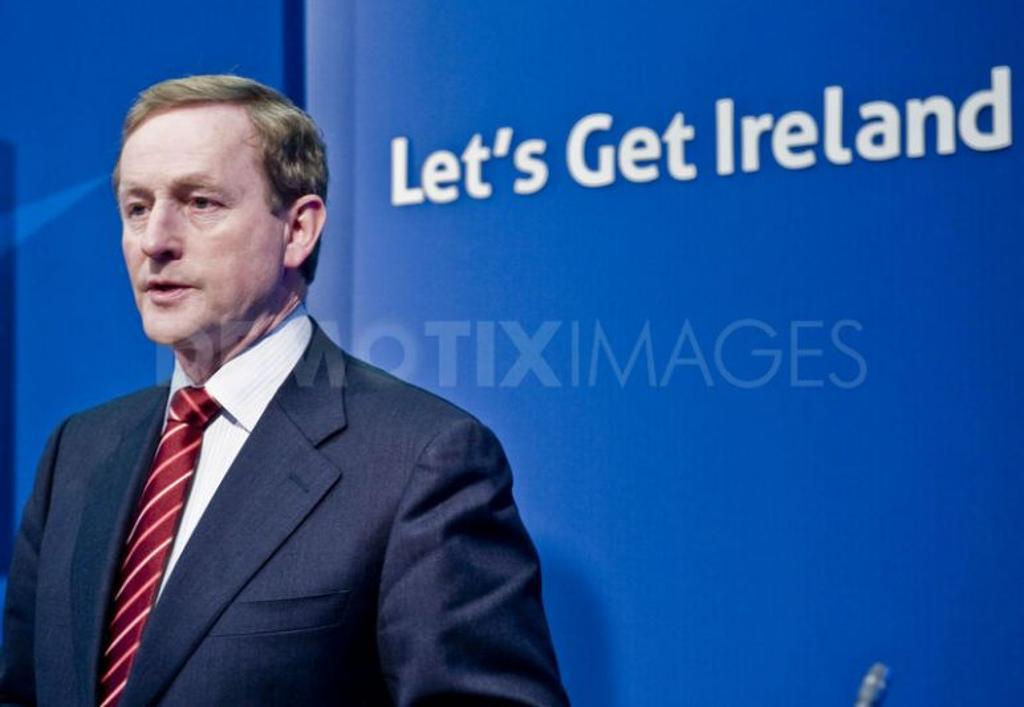face: (117, 125, 267, 343)
